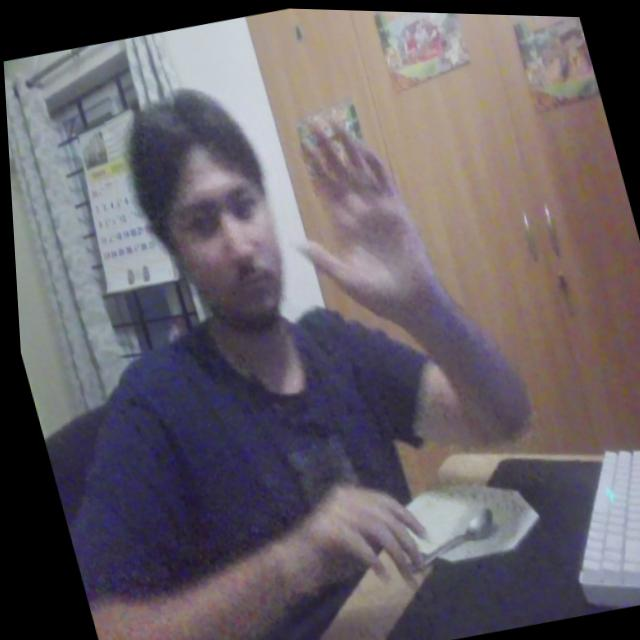hello: (257, 88, 461, 348)
